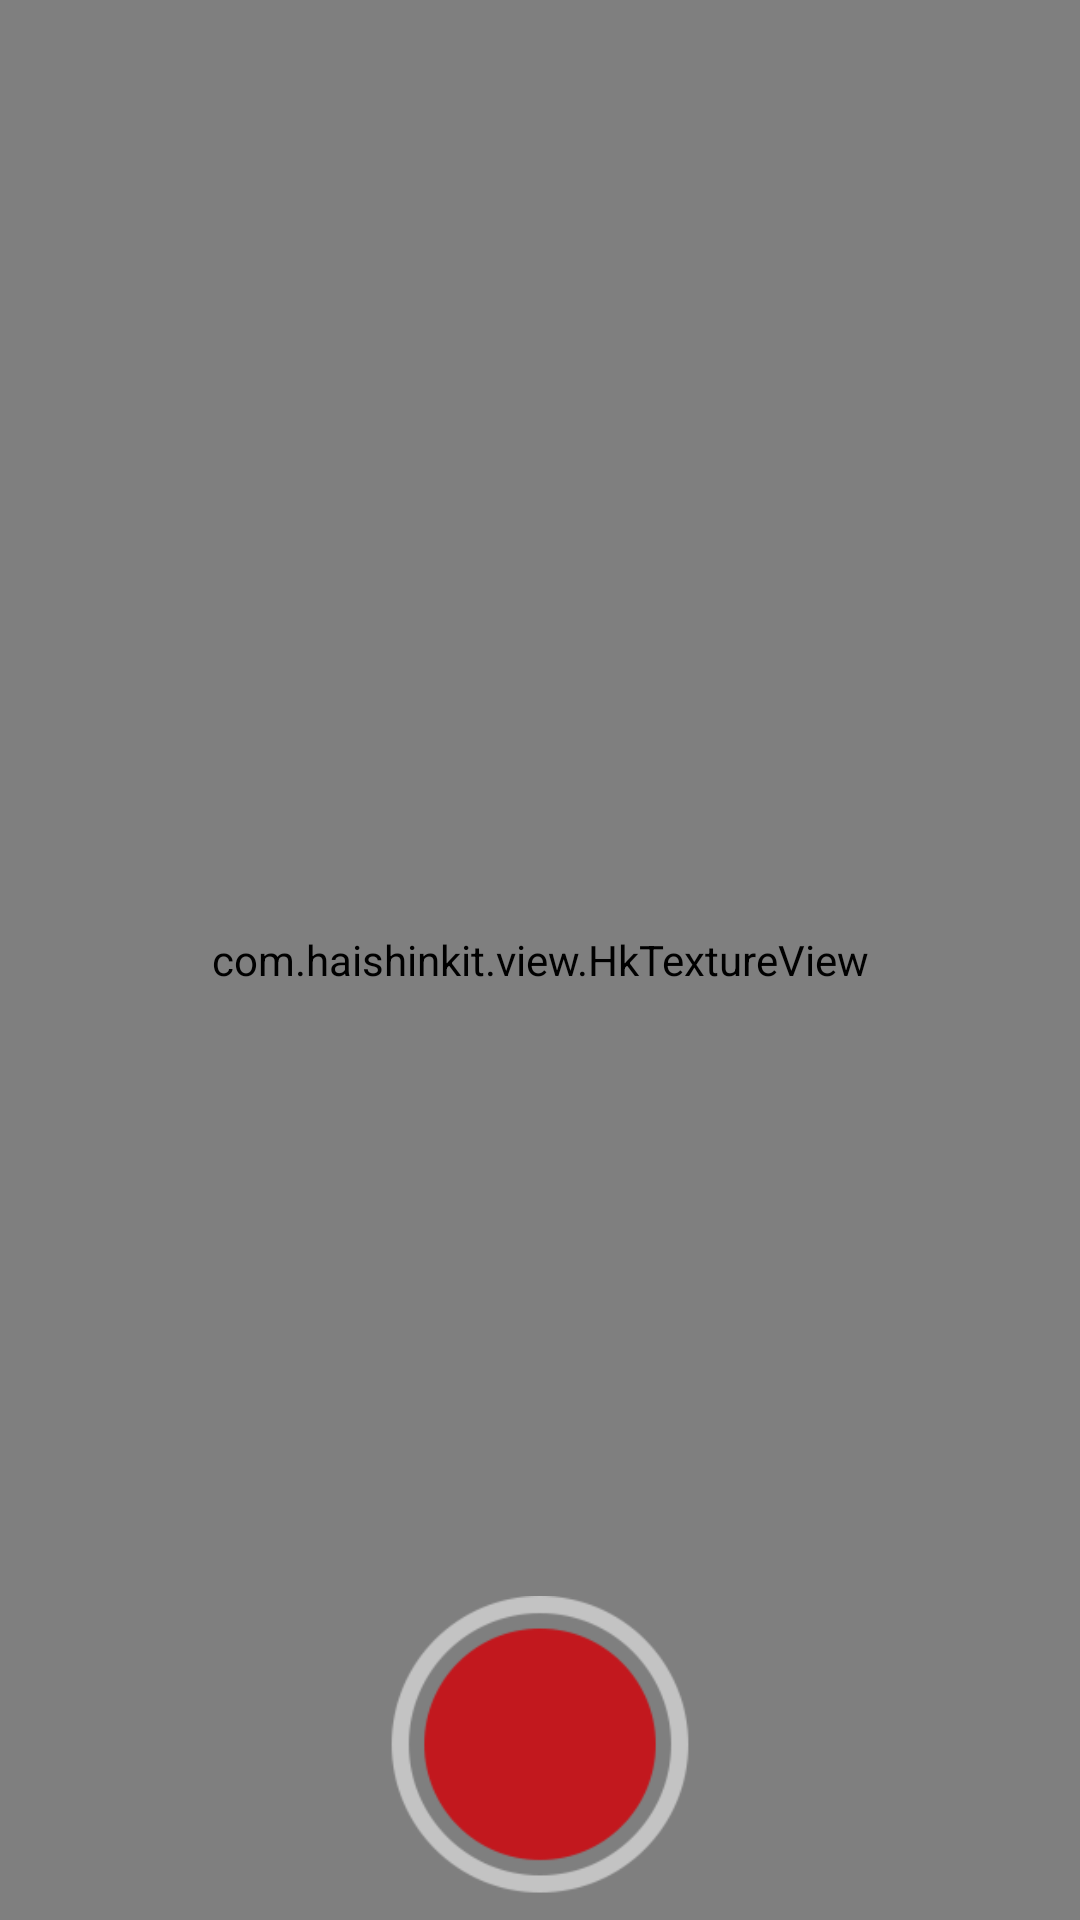

Screen size 1080 × 1920. Icon name, then its center in pixels as [x,y]:
record: [540,1744]
